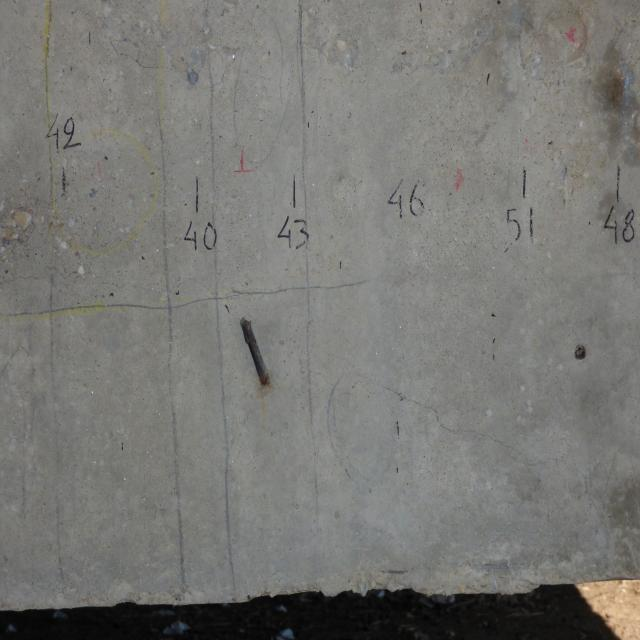corrosion: (233, 302, 279, 402), (573, 342, 588, 364)
